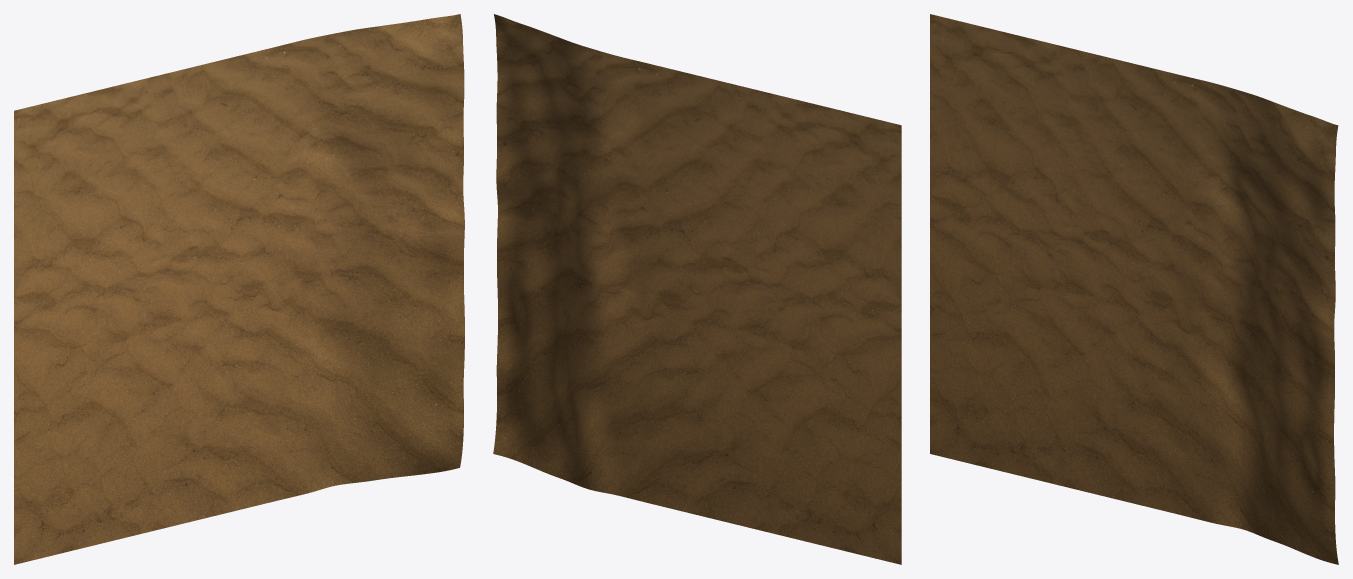
Rendered from Sand.fbx.
3 renders of one model, left to right at view 1: azimuth 30°, elevation 25°; view 2: azimuth 150°, elevation 25°; view 3: azimuth 330°, elevation 25°, orthographic. The views are drawn at different scales.
Visible parts, largest first — view 1: B_sand; view 2: B_sand; view 3: B_sand.
Part boxes in pixels (x1,y1,x2,y2): B_sand: (14, 14, 464, 564); B_sand: (493, 14, 901, 564); B_sand: (930, 14, 1338, 564).
Bounding box in the file's own units: 508 × 6000 × 6000.
